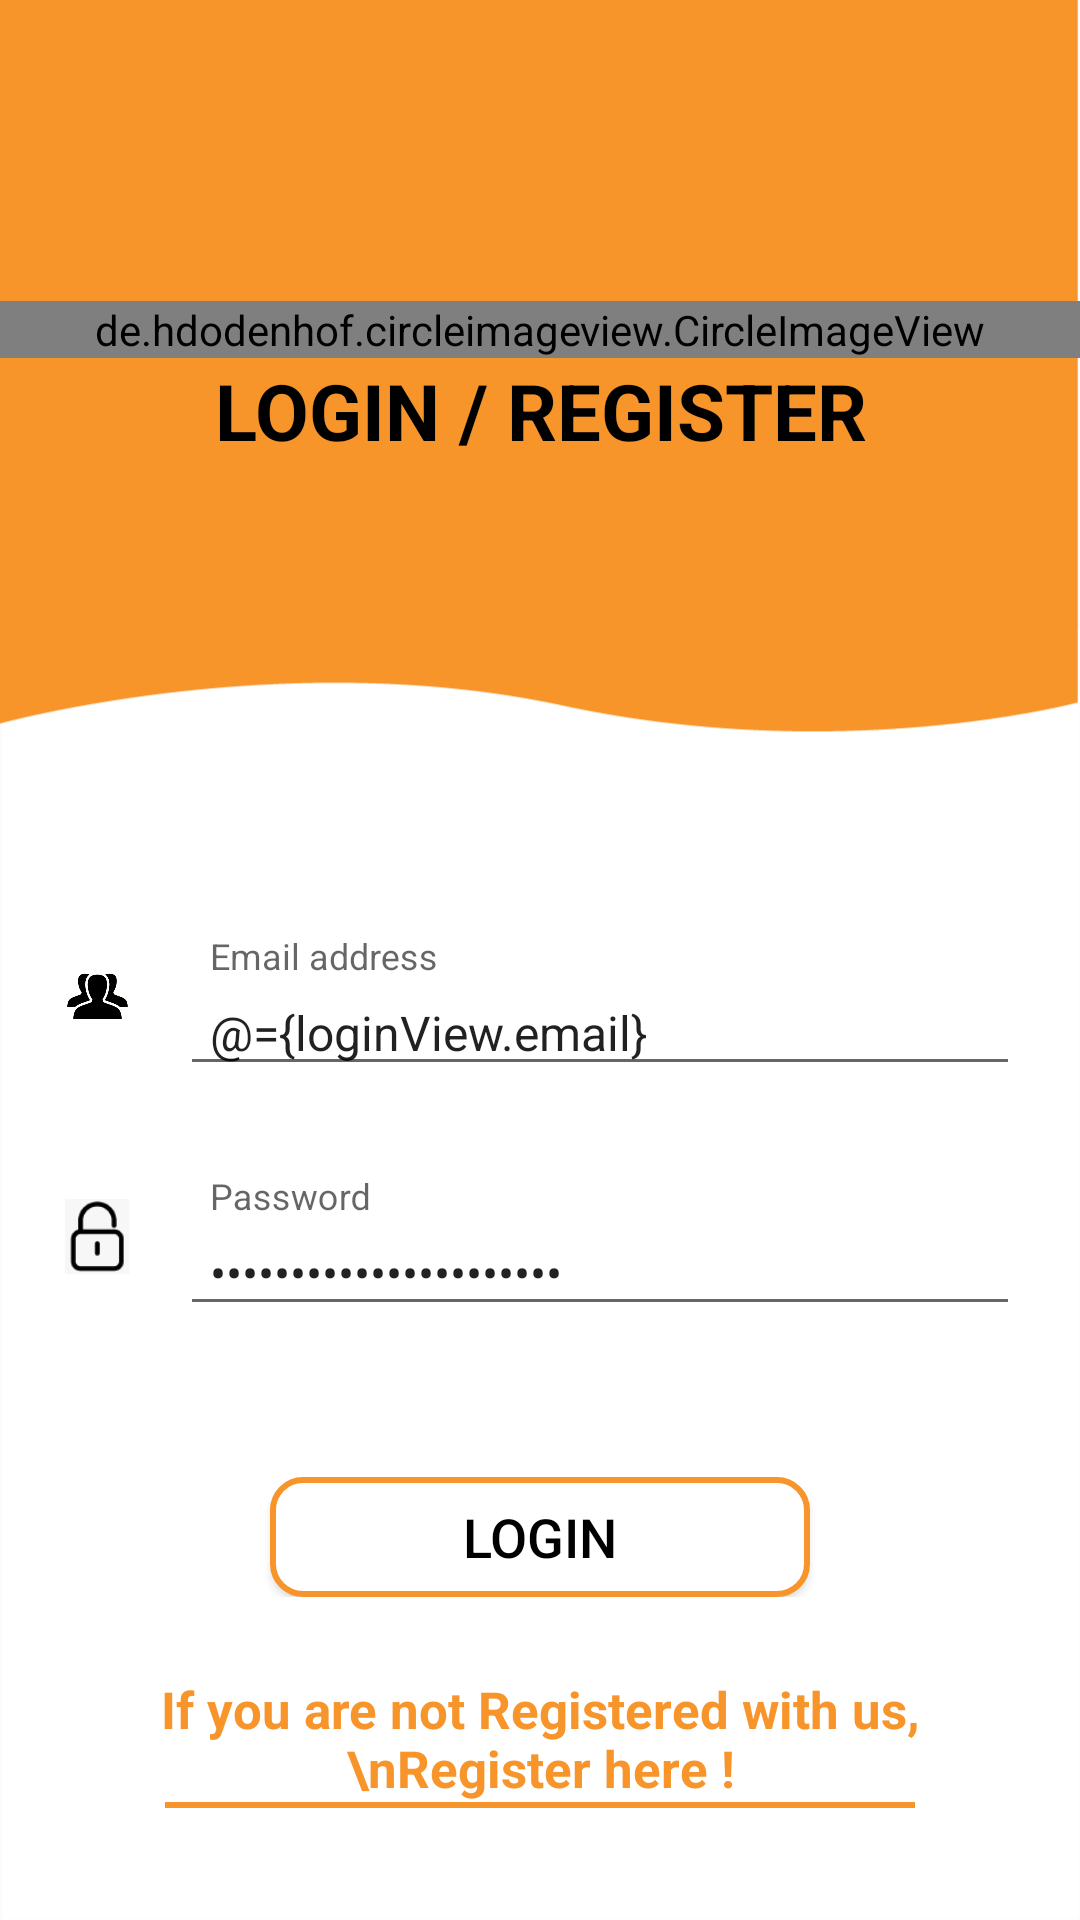

Named icons in this screenshot (1080px x 1920px) and their centers, point (x, y):
user: point (97, 996)
